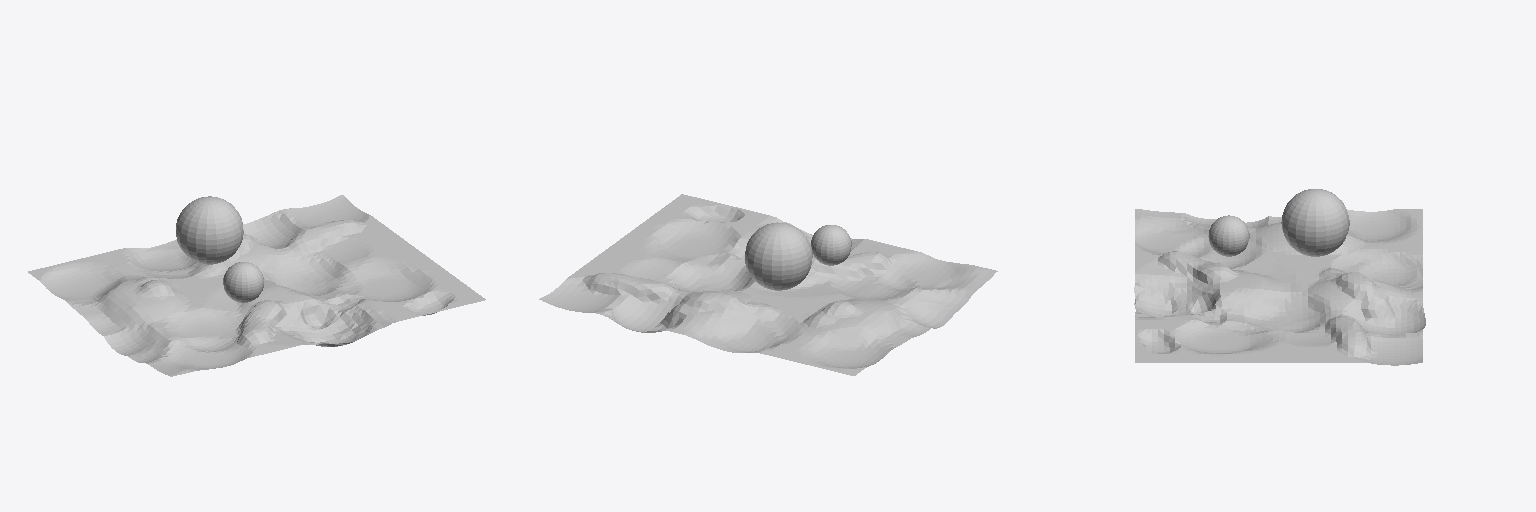
File: spheres.obj
3 renders of one model, left to right at view 1: azimuth 30°, elevation 25°; view 2: azimuth 150°, elevation 25°; view 3: azimuth 270°, elevation 25°, orthographic.
Parts seen in each view (by area): view 1: nurbsToPoly1, pSphere1, pSphere2; view 2: nurbsToPoly1, pSphere1, pSphere2; view 3: nurbsToPoly1, pSphere1, pSphere2.
Boxes of the visible parts, box(x1,y1,x2,y2) form: nurbsToPoly1: box(28, 195, 485, 376); pSphere1: box(176, 196, 243, 264); pSphere2: box(223, 262, 263, 302); nurbsToPoly1: box(539, 194, 997, 375); pSphere1: box(745, 222, 812, 290); pSphere2: box(811, 225, 851, 265); nurbsToPoly1: box(1134, 209, 1425, 365); pSphere1: box(1281, 189, 1349, 256); pSphere2: box(1208, 215, 1249, 256).
Bounding box in the file's own units: 42.91 × 13.05 × 34.2.